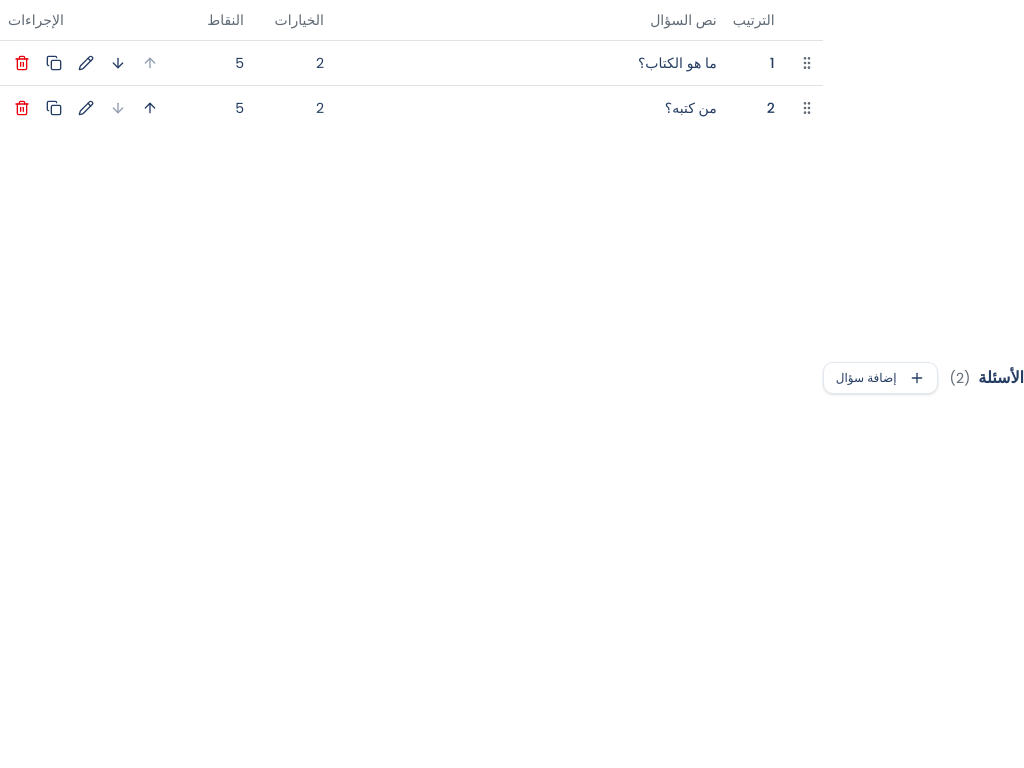
Test case: the table of the questions › asks before deleting a question
This screenshot has width=1024, height=768.
Click the button named "حذف السؤال" in the row of "ما هو الكتاب؟" at (22, 62), box [8,48,36,76]
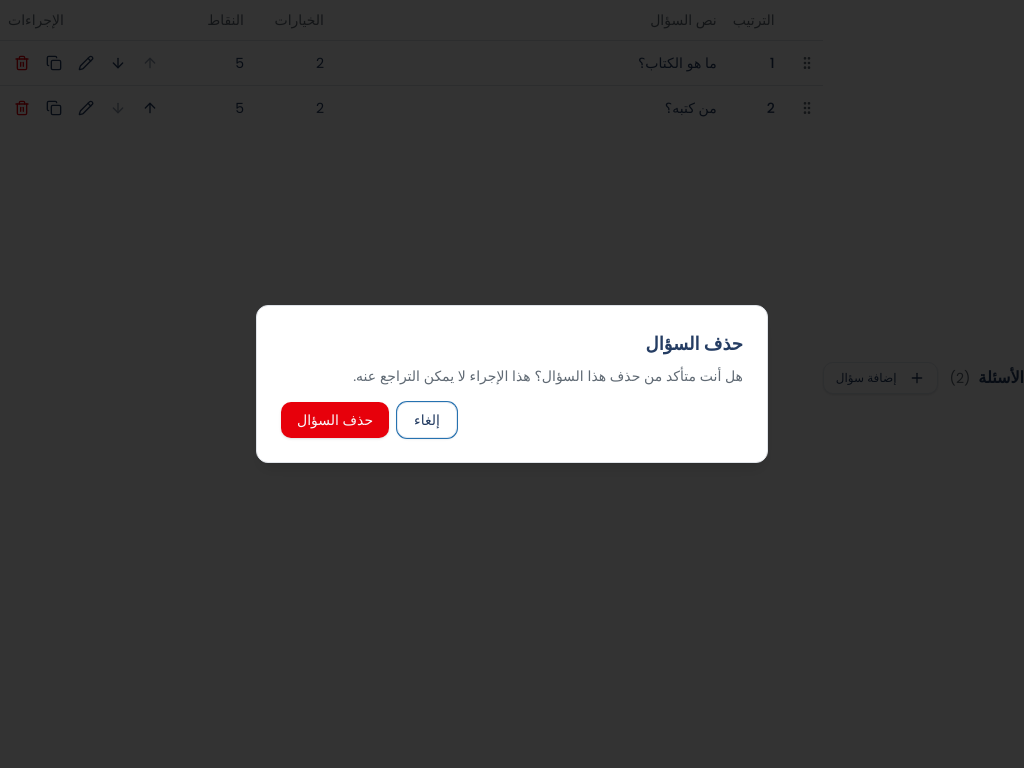
Now the button "حذف السؤال" is shown, box [281,402,389,438]
